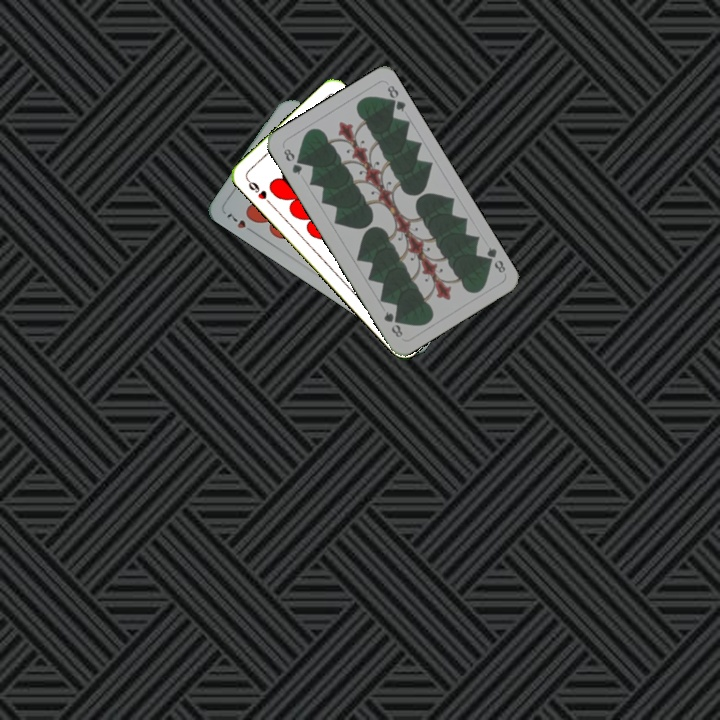G8: (479, 243, 508, 276), (279, 144, 305, 178)
H7: (222, 208, 258, 236)
H9: (243, 175, 275, 208)
